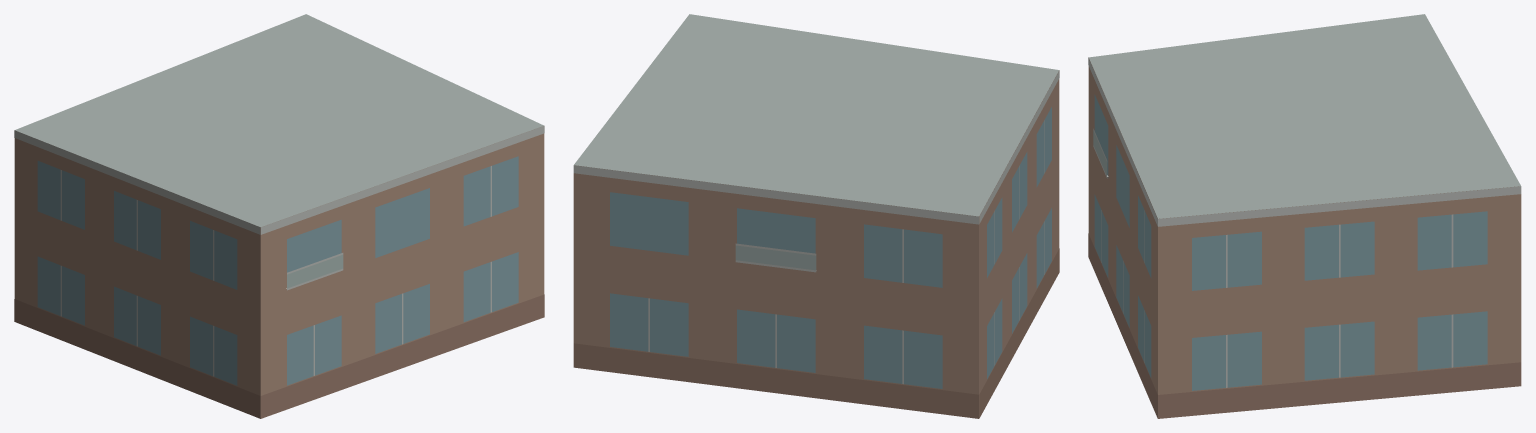
File: survey-upis-32652651.glb
The picture shows the model from 3 angles, left to right: view 1: azimuth 30°, elevation 25°; view 2: azimuth 150°, elevation 25°; view 3: azimuth 270°, elevation 25°; orthographic projection. The views are drawn at different scales.
Parts seen in each view (by area): view 1: survey-upis-32652651.tmp; view 2: survey-upis-32652651.tmp; view 3: survey-upis-32652651.tmp.
Part boxes in pixels (x1,y1,x2,y2): survey-upis-32652651.tmp: (14, 14, 544, 418); survey-upis-32652651.tmp: (573, 14, 1059, 418); survey-upis-32652651.tmp: (1088, 14, 1521, 418).
Size of the model in its own units: 13.41 by 6.1 by 11.97.
